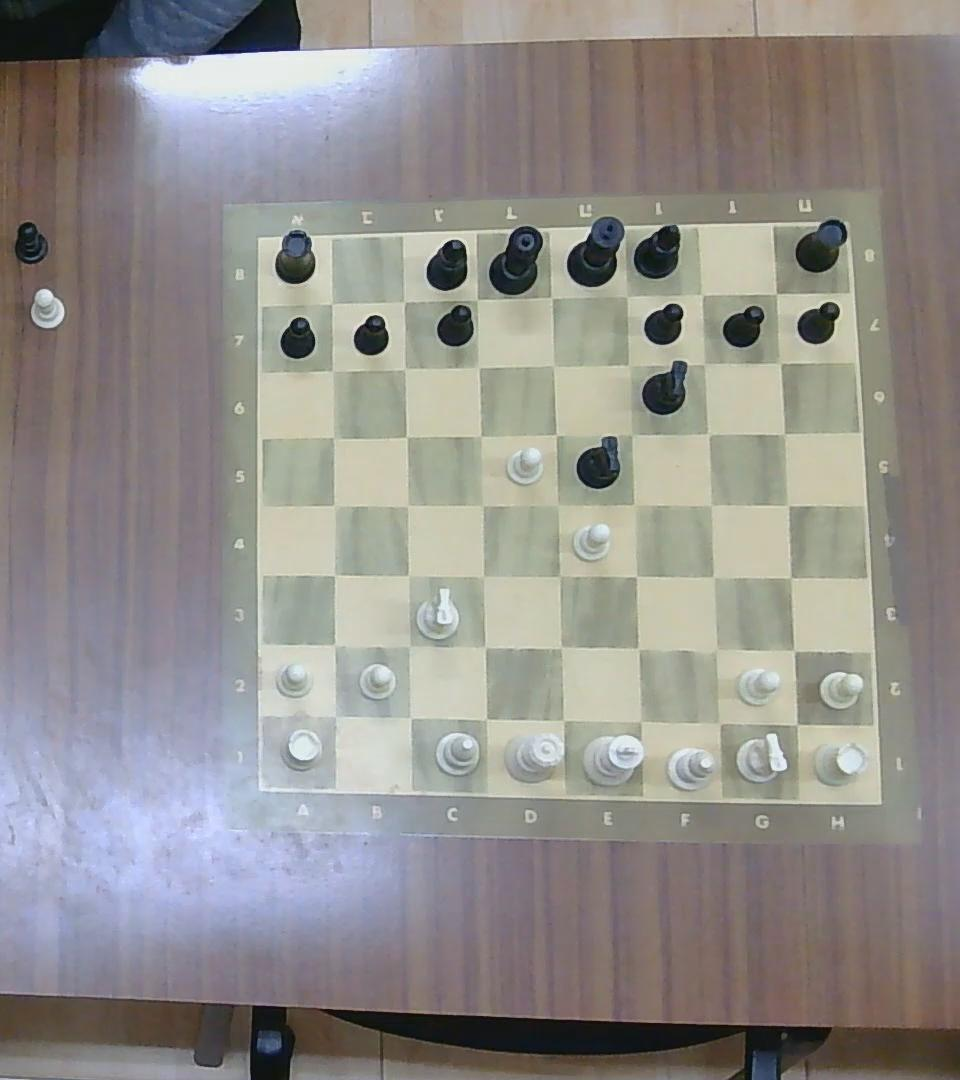xcorner: (701, 705, 735, 738), (621, 631, 654, 664), (624, 703, 656, 737), (545, 630, 577, 662), (468, 630, 500, 662), (780, 706, 812, 738), (547, 702, 578, 735), (699, 634, 731, 665), (393, 701, 424, 732), (470, 703, 501, 734), (775, 561, 806, 592), (777, 634, 808, 665), (698, 561, 728, 592), (319, 700, 350, 730), (468, 560, 498, 590), (621, 560, 651, 590), (393, 631, 423, 661), (544, 560, 574, 590), (319, 629, 349, 659), (393, 560, 423, 590), (620, 489, 649, 519), (320, 559, 349, 588), (616, 419, 645, 448), (467, 490, 496, 518), (773, 490, 802, 518), (543, 490, 572, 518), (463, 284, 491, 313), (393, 490, 421, 518), (697, 490, 725, 518), (320, 491, 349, 518), (538, 283, 566, 310), (693, 420, 722, 446), (543, 420, 570, 447), (318, 421, 345, 448), (318, 356, 345, 382), (771, 420, 798, 446), (614, 282, 641, 308), (317, 291, 345, 316), (393, 422, 419, 448), (467, 422, 493, 448), (616, 351, 641, 377), (763, 281, 789, 305), (767, 350, 792, 374), (540, 352, 564, 376), (691, 351, 715, 374), (391, 356, 415, 379), (391, 290, 415, 313), (466, 354, 490, 377), (690, 282, 713, 304)
